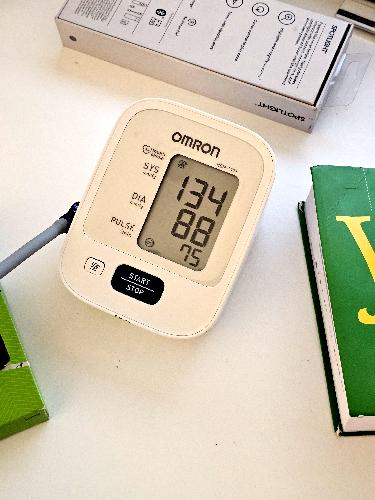bpm: (133, 149, 243, 275)
